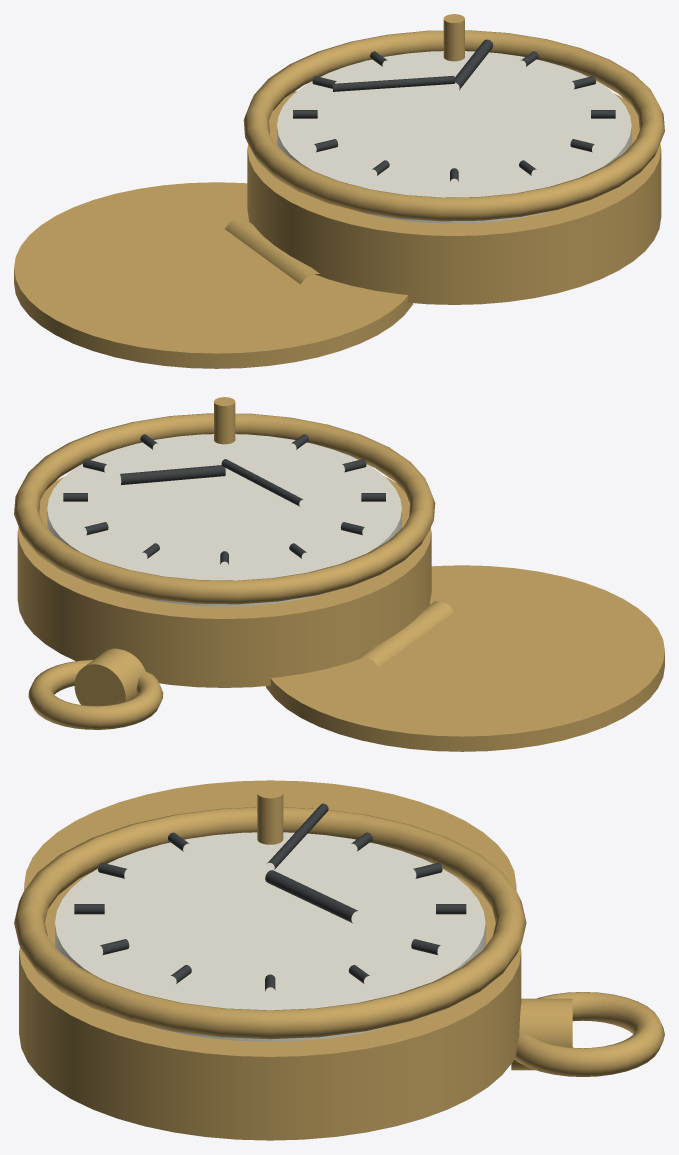
File: clockmaker-and-watch-repair-pocket-watch-31869fb3__30635.glb
The picture shows the model from 3 angles, top to bottom: view 1: azimuth 30°, elevation 25°; view 2: azimuth 150°, elevation 25°; view 3: azimuth 270°, elevation 25°; orthographic projection. The views are drawn at different scales.
Parts seen in each view (by area): view 1: pocket-watch; view 2: pocket-watch; view 3: pocket-watch.
Part boxes in pixels (x1=…): pocket-watch: x1=14, y1=14, x2=664, y2=368; pocket-watch: x1=14, y1=397, x2=664, y2=751; pocket-watch: x1=14, y1=780, x2=664, y2=1140.
Size of the model in its own units: 0.163 by 0.059 by 0.127.
